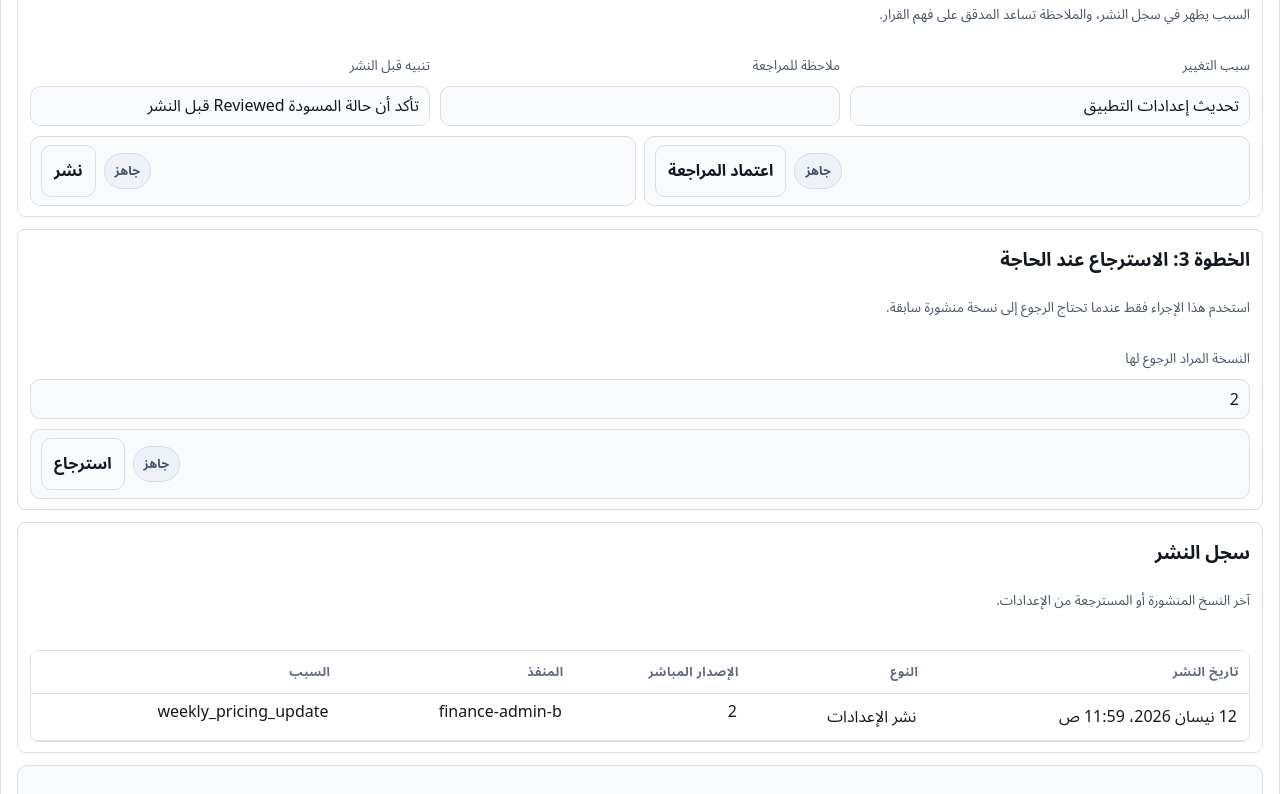
Test: config governance shell › opens rollback confirmation with danger variant and version preview
This screenshot has width=1280, height=794.
(page scrolled)
Replace the text in the number field with test id "config-rollback-version-input" with "1" at point(640, 399), box x1=30 y1=379 x2=1250 y2=419
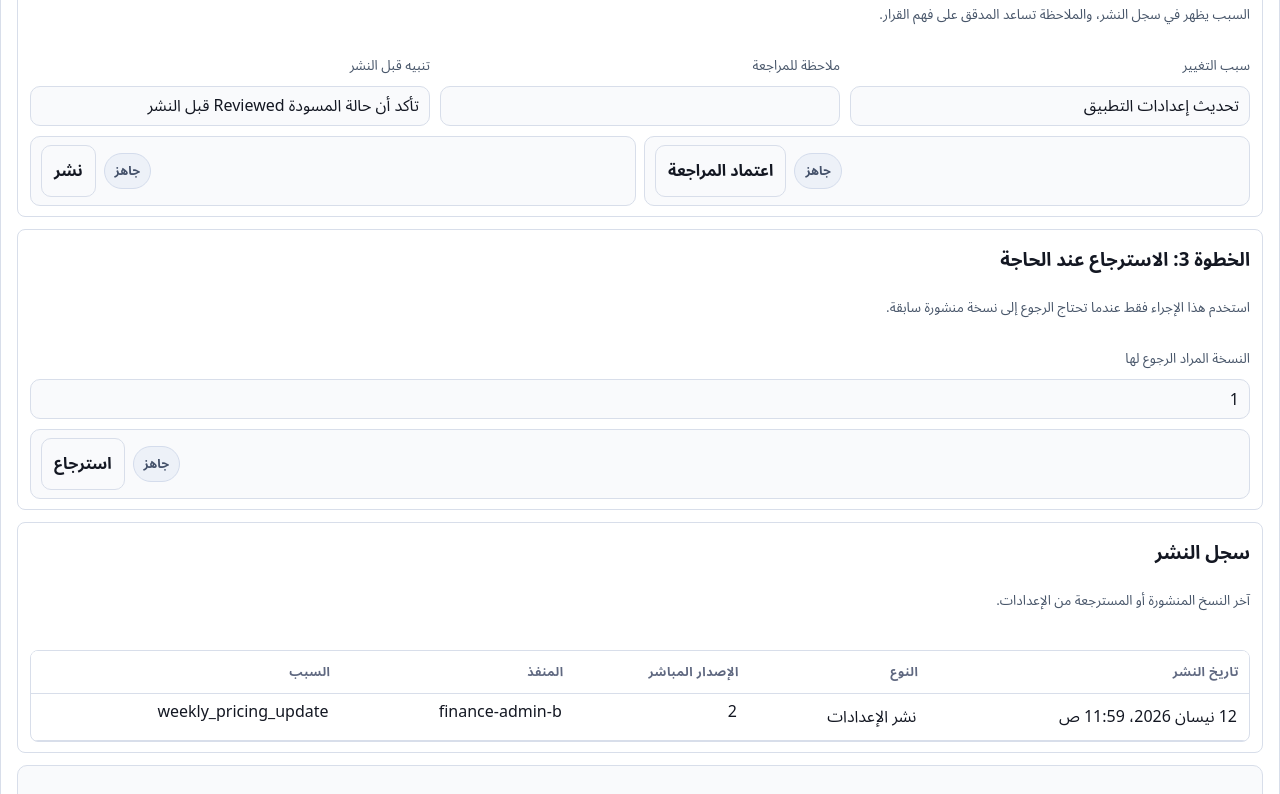
Click the button "استرجاع".
click(83, 464)  # box x1=41 y1=438 x2=125 y2=490
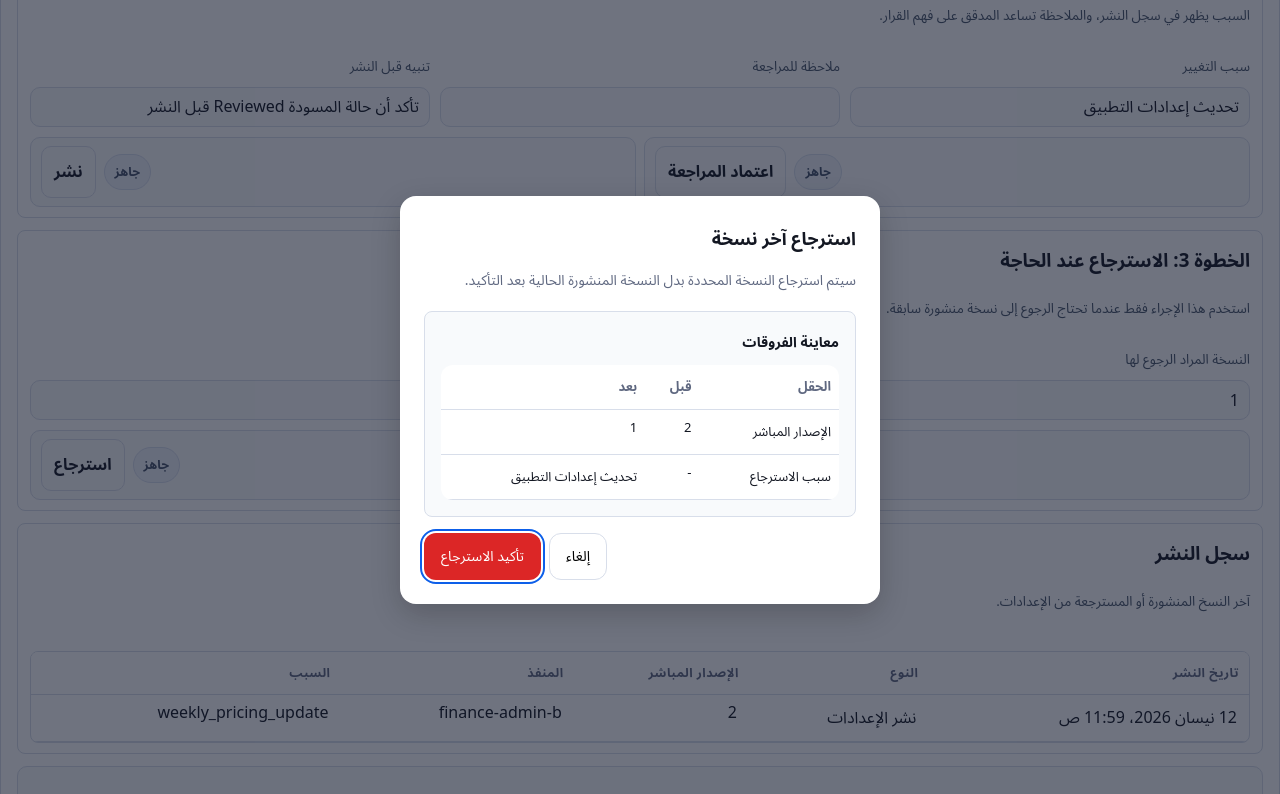
Expected: the row with test id "config-diff-row-rollback-version" shows "2", x1=684 y1=418 x2=692 y2=436
Expected: the row with test id "config-diff-row-rollback-version" shows "1", x1=630 y1=418 x2=637 y2=436
